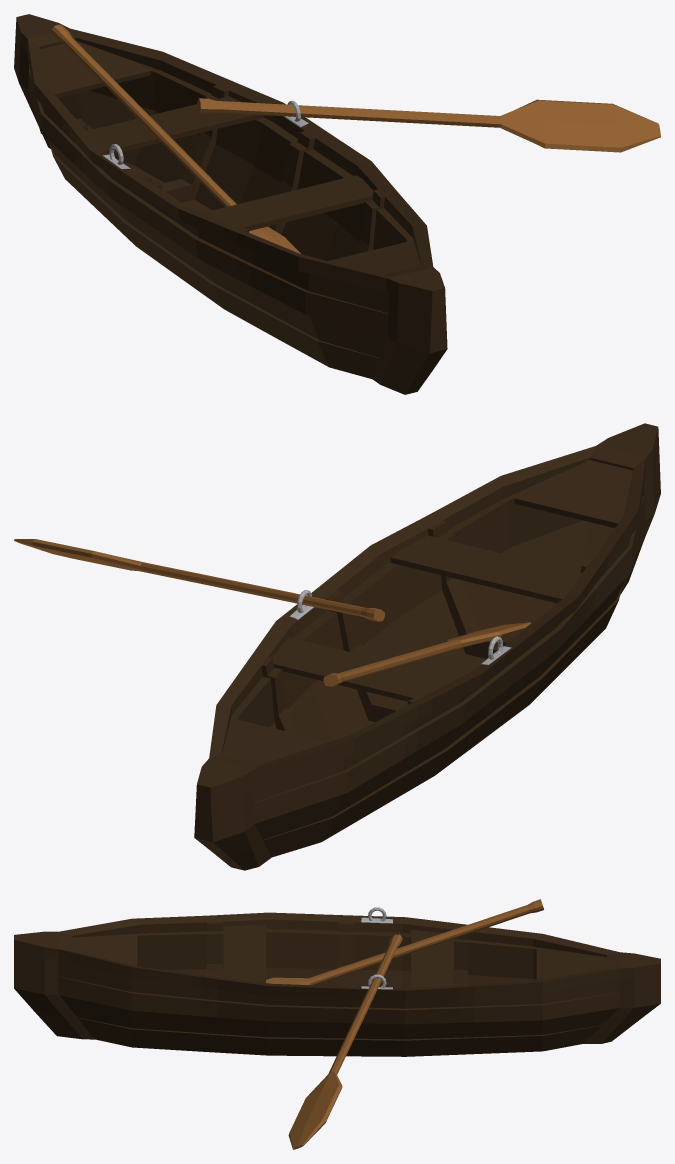
The model's file is boat.fbx.
The picture shows the model from 3 angles, top to bottom: view 1: azimuth 30°, elevation 25°; view 2: azimuth 150°, elevation 25°; view 3: azimuth 270°, elevation 25°; orthographic projection. The views are drawn at different scales.
Parts seen in each view (by area): view 1: Body, Paddle1, Paddle2; view 2: Body, Paddle1, Paddle2; view 3: Body, Paddle1, Paddle2.
Boxes of the visible parts, bbox=[...] form: Body: bbox=[14, 14, 447, 394]; Paddle1: bbox=[197, 98, 660, 152]; Paddle2: bbox=[51, 24, 301, 254]; Body: bbox=[194, 423, 660, 870]; Paddle1: bbox=[14, 539, 384, 621]; Paddle2: bbox=[323, 622, 530, 686]; Body: bbox=[14, 907, 660, 1056]; Paddle1: bbox=[288, 934, 402, 1149]; Paddle2: bbox=[266, 899, 543, 985].
Bounding box in the file's own units: 582 × 174 × 833.
